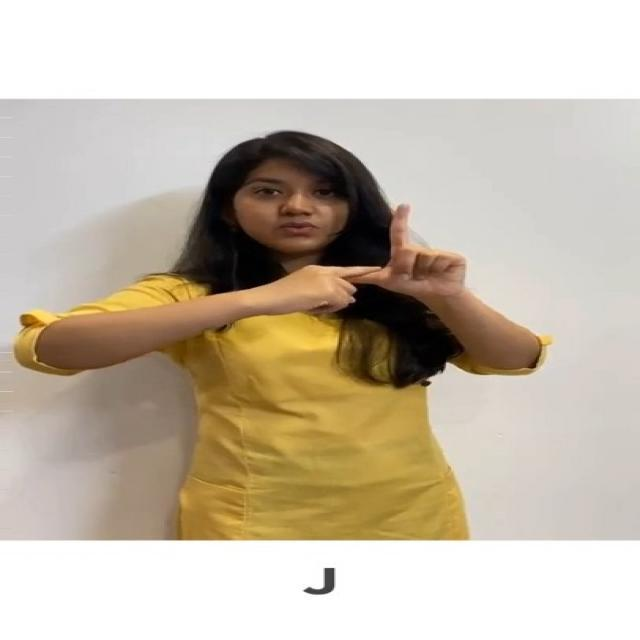J: (251, 198, 487, 326)
